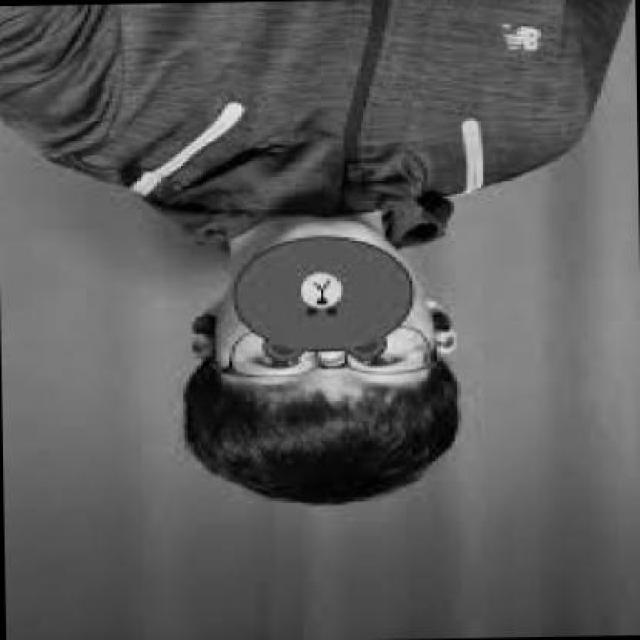earphone: (180, 302, 218, 347), (430, 296, 460, 347)
